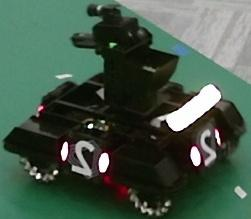armor_2: (62, 141, 110, 174), (190, 128, 222, 167)
back_2: (197, 124, 218, 166)
left_2: (67, 139, 102, 180)
light: (166, 83, 222, 131)
